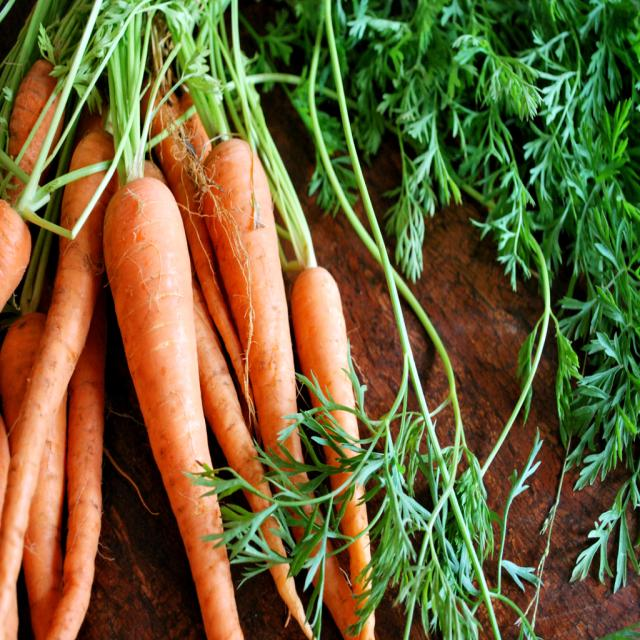Carrot: (100, 0, 245, 639), (0, 58, 103, 639), (290, 265, 378, 639)
